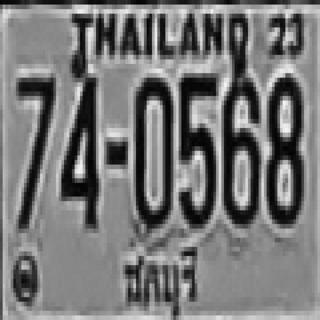N00: (133, 73, 171, 224)
N04: (59, 68, 96, 224)
N05: (177, 68, 215, 224)
N06: (221, 73, 259, 224)
N07: (13, 71, 53, 226)
N08: (264, 73, 301, 224)
P13: (121, 242, 204, 320)
